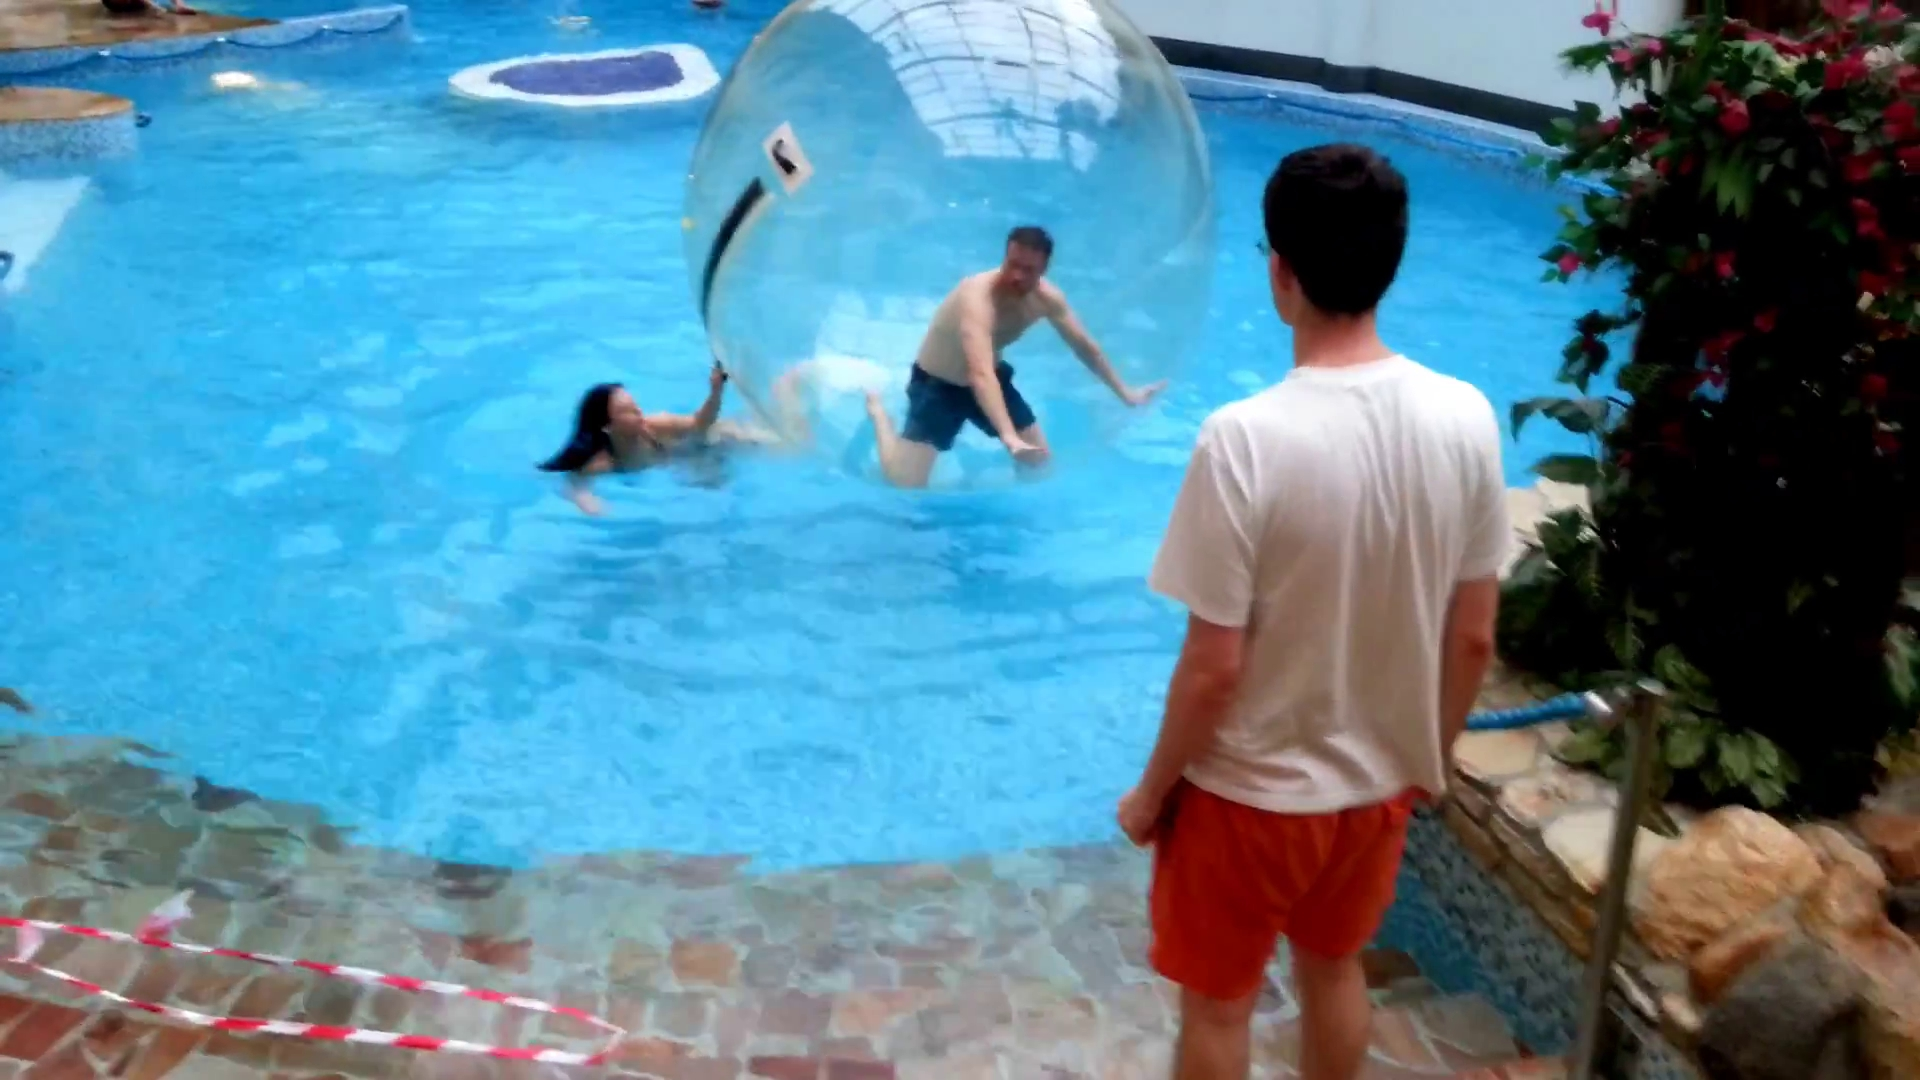person: (1114, 142, 1506, 1079), (864, 226, 1168, 491), (541, 355, 833, 520)
